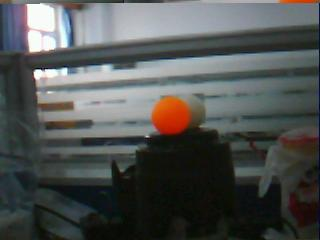oball: (152, 97, 190, 136)
